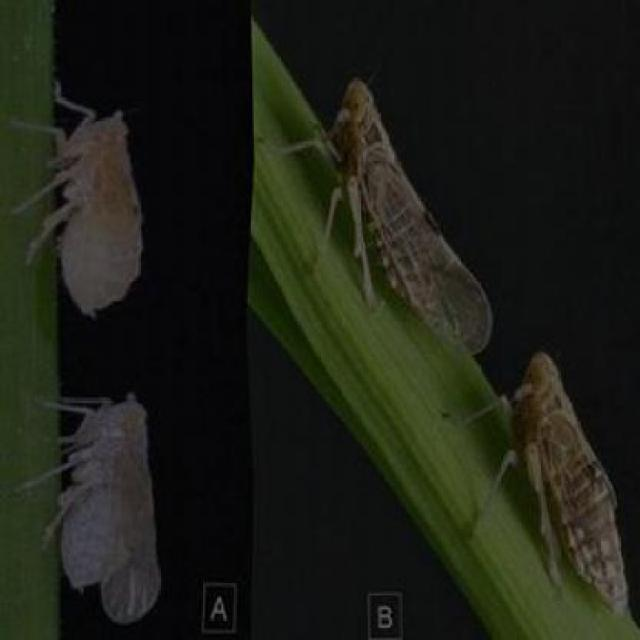brown-planthopper: (314, 61, 489, 353), (507, 352, 628, 614), (48, 390, 164, 624), (51, 105, 142, 318)
